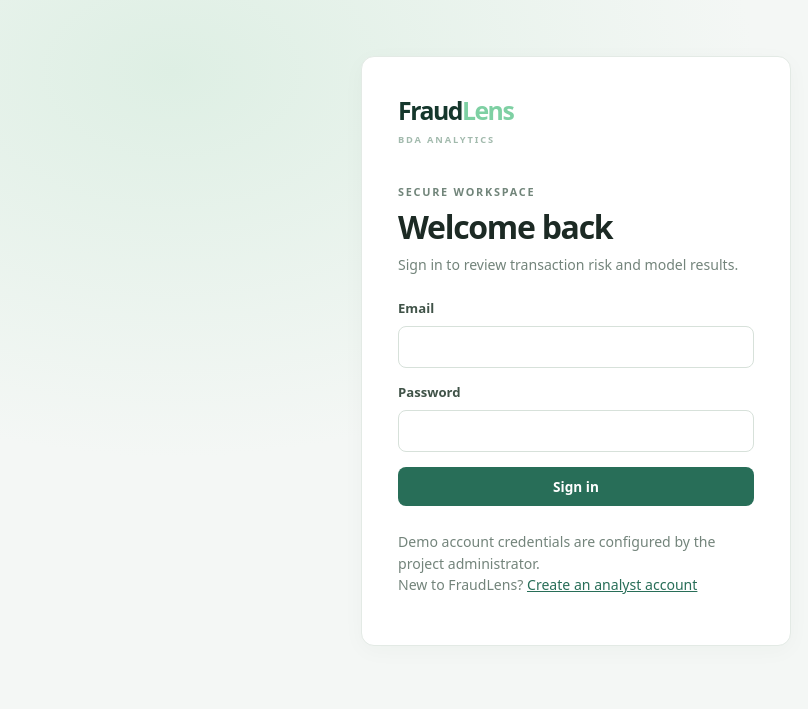
Test: login validation › shows validation errors for invalid email and an empty password
The image size is (808, 709).
In the field labelled "Email": (576, 347) [398, 326, 754, 368], type "not-an-email"
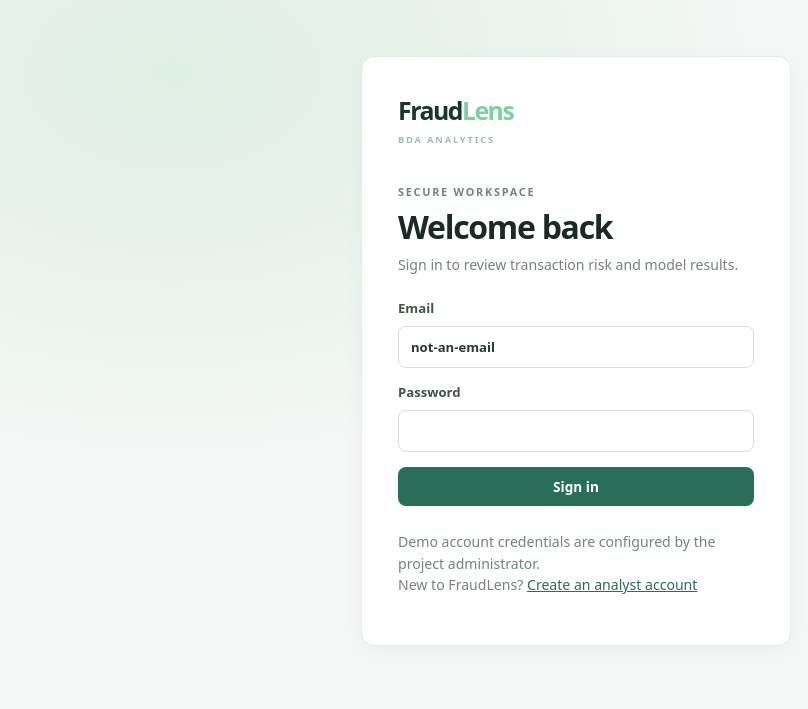
In the password field labelled "Password": (576, 431) [398, 410, 754, 452], type "secret"
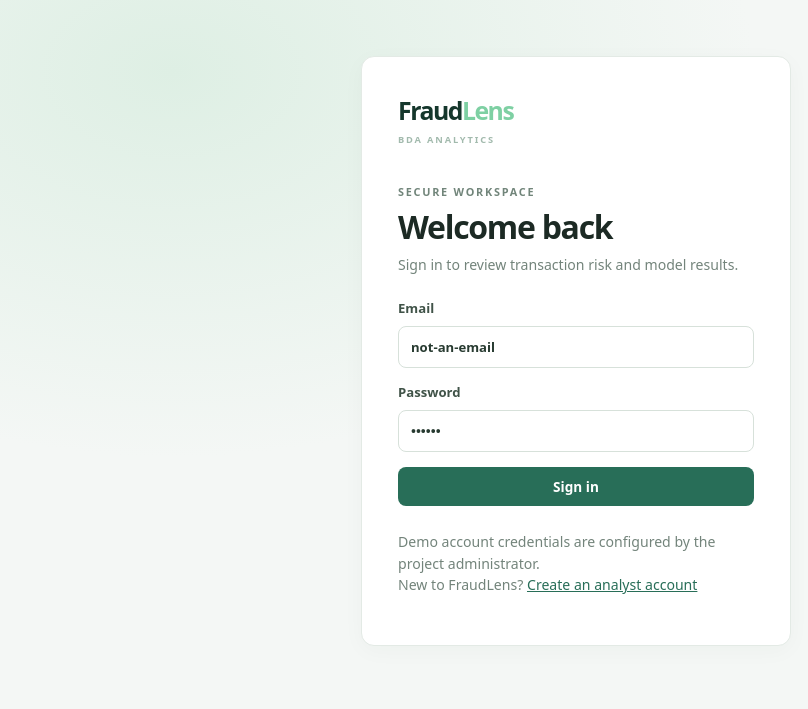
Click the button "Sign in": click(576, 486) [398, 467, 754, 506]
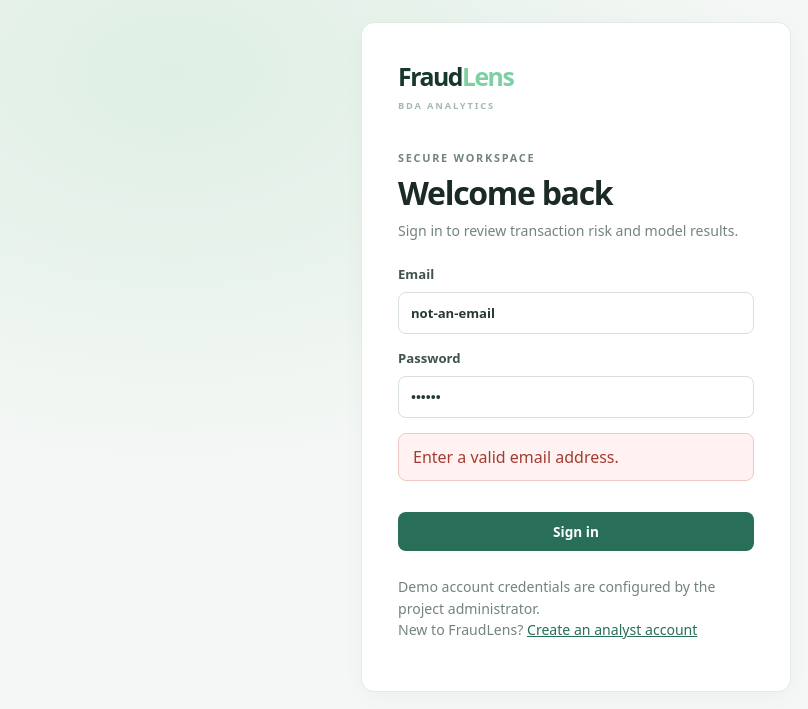
Expected: the message reads "Enter a valid email address.", [413, 446, 619, 468]
Replace the text in the field labelled "Email" with "person@example.test": (576, 313) [398, 292, 754, 334]
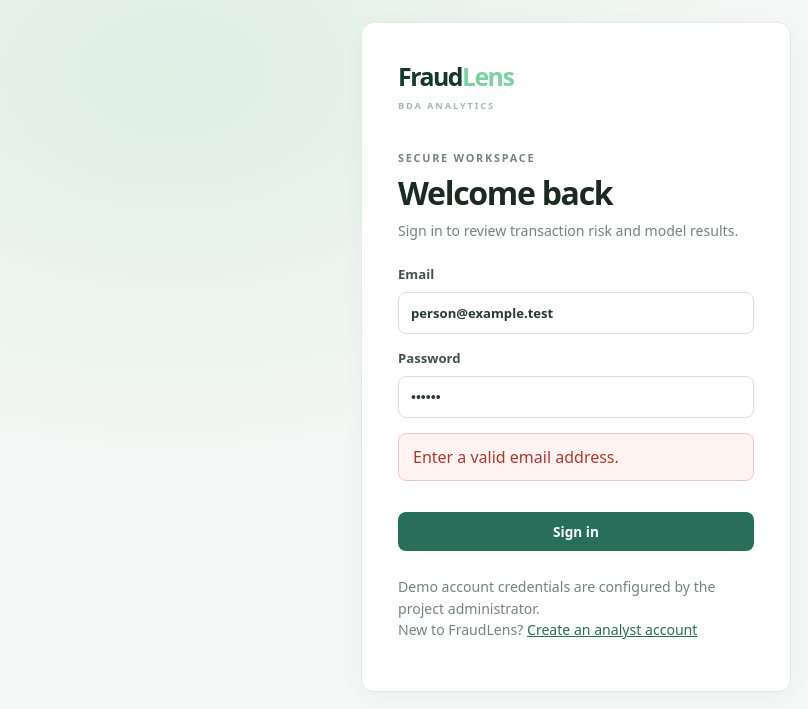
Clear the password field labelled "Password": (576, 397) [398, 376, 754, 418]
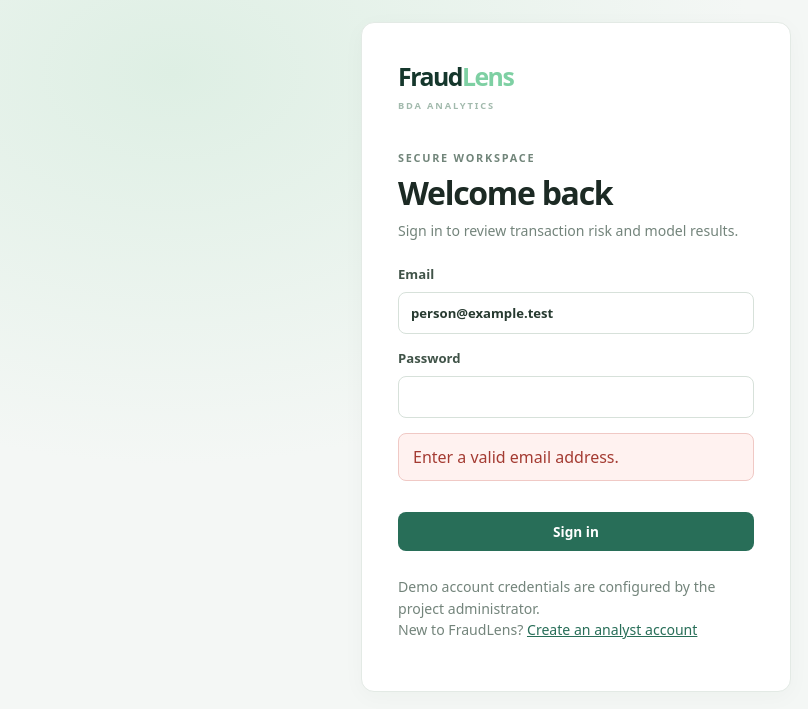
Click the button "Sign in": click(576, 532) [398, 512, 754, 551]
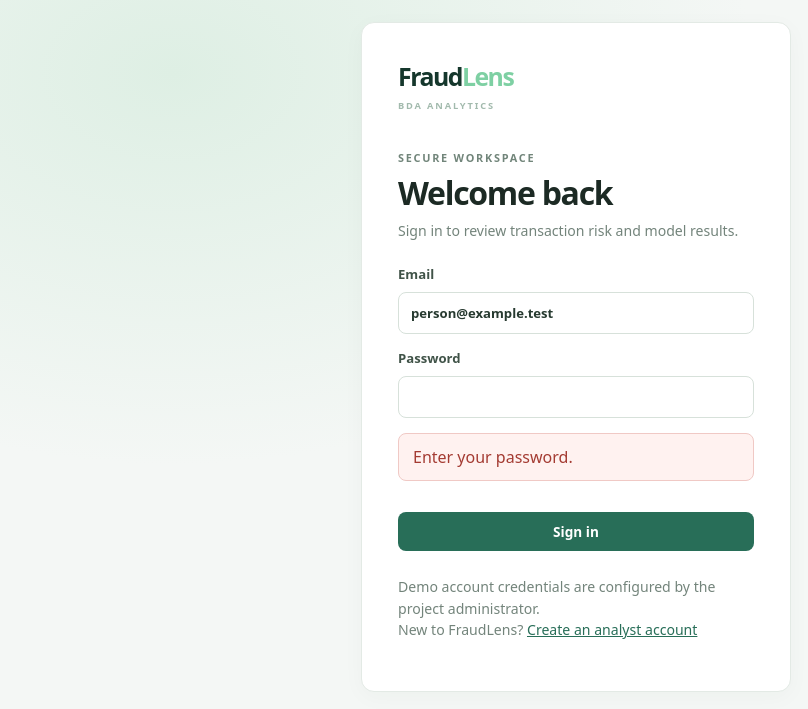
Expected: the message reads "Enter your password.", [413, 446, 573, 468]
